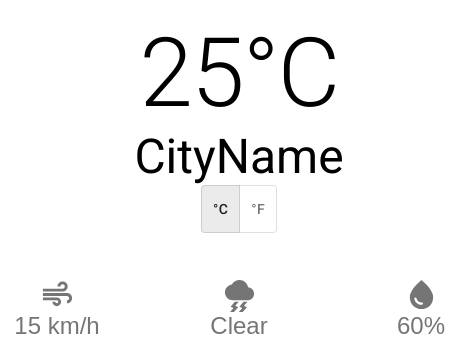
Scenario: Weather Component › changes unit from Celsius to Fahrenheit
Expected: the heading with test id "temperature" reads "25°C", [139,17,338,129]
Click the button named "Fahrenheit" at (258, 209), box [239,185,277,233]
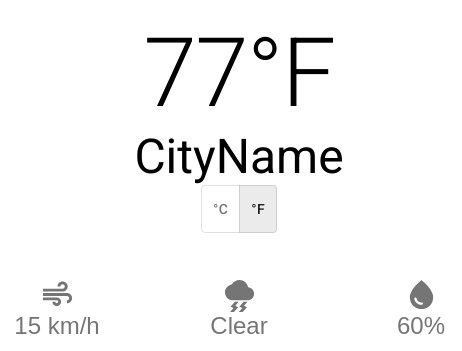
Expected: the heading with test id "temperature" reads "77°F", [144,17,334,129]
